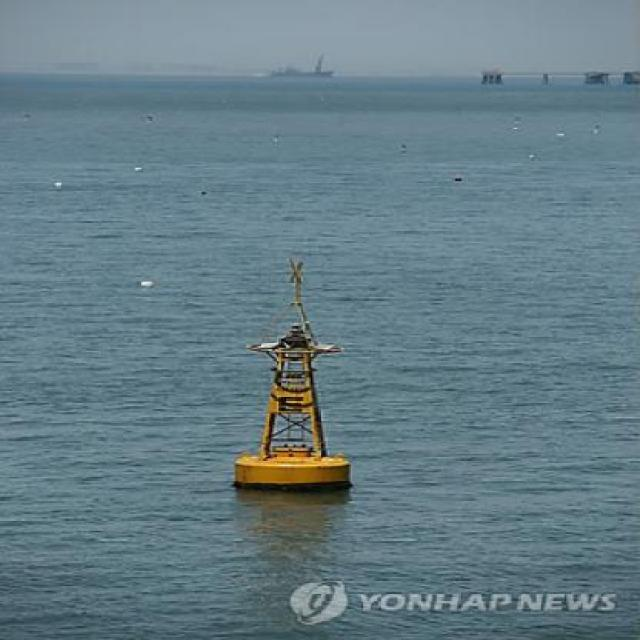buoy: (222, 250, 368, 497)
